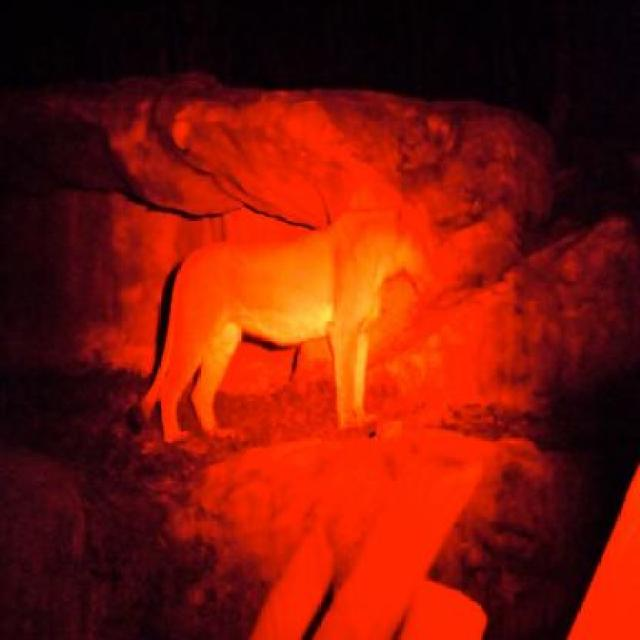Lion: (91, 188, 478, 532)
